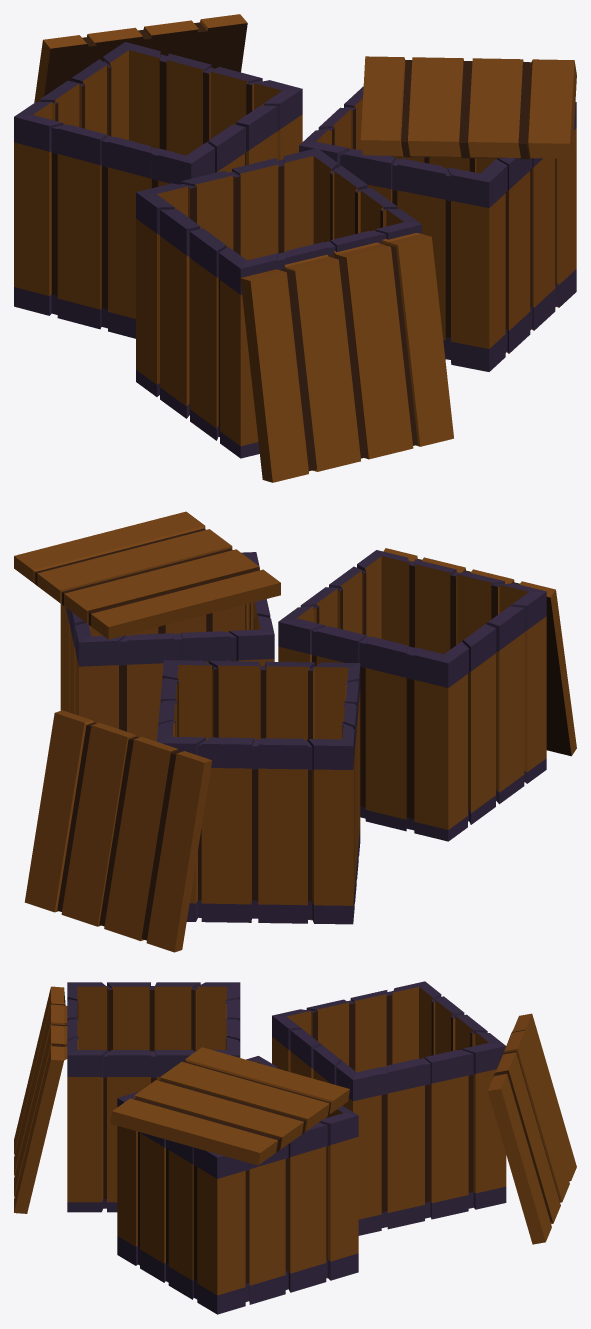
File: IronStock.fbx
The picture shows the model from 3 angles, top to bottom: view 1: azimuth 30°, elevation 25°; view 2: azimuth 150°, elevation 25°; view 3: azimuth 270°, elevation 25°; orthographic projection. The views are drawn at different scales.
Parts seen in each view (by area): view 1: Boxes; view 2: Boxes; view 3: Boxes.
Part boxes in pixels (left/top/right/bottom): Boxes: left=14, top=14, right=576, bottom=482; Boxes: left=14, top=511, right=576, bottom=952; Boxes: left=14, top=981, right=576, bottom=1314.
Bounding box in the file's own units: 510 × 225 × 650.
